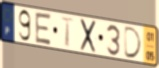3: (105, 23, 121, 58)
9: (18, 9, 32, 42)
D: (123, 26, 143, 61)
E: (34, 11, 53, 47)
T: (60, 15, 76, 49)
X: (79, 18, 97, 55)
